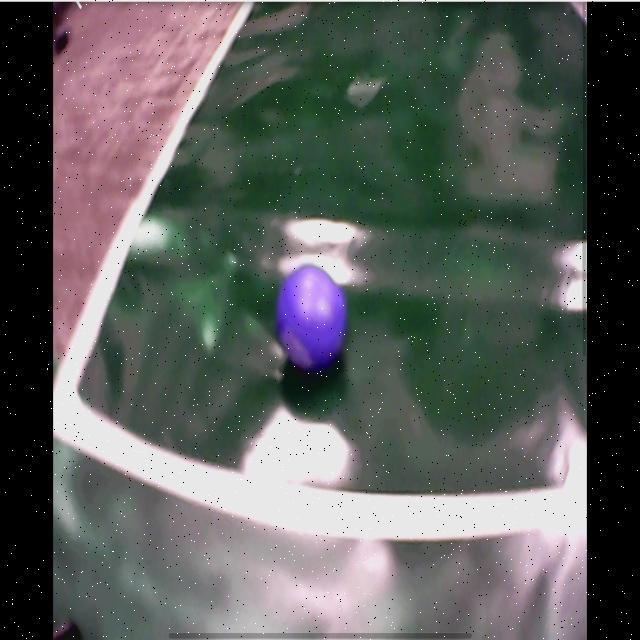ball: (277, 260, 350, 371)
